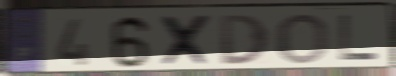4: (55, 17, 92, 67)
6: (108, 14, 153, 69)
D: (218, 13, 272, 67)
L: (338, 13, 381, 62)
O: (275, 12, 329, 66)
X: (159, 13, 216, 68)
